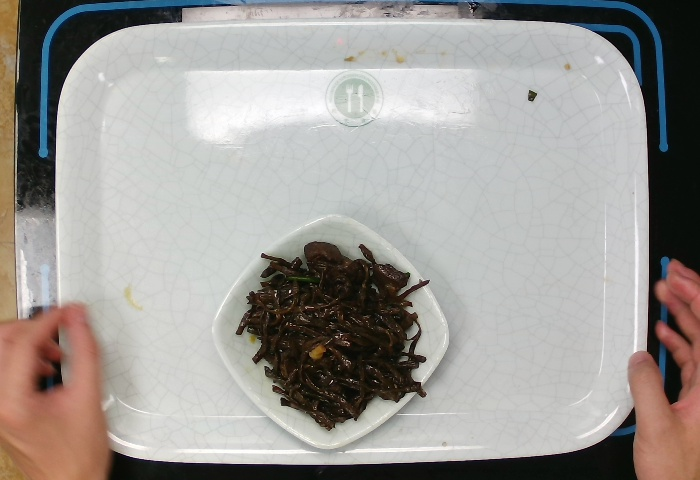WCQzf-Da_Si_Fang_Die: (208, 209, 452, 453)
